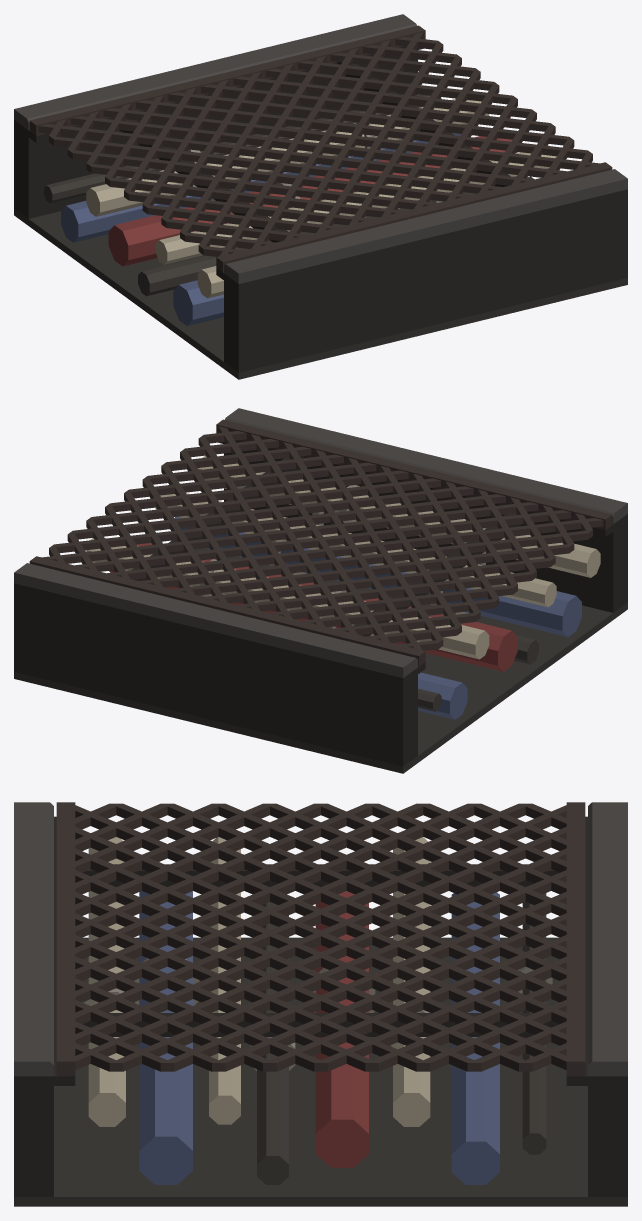
Rendered from FloorGrateOpenLR.fbx.
3 views of the same model, one above another, from view 1: azimuth 30°, elevation 25°; view 2: azimuth 150°, elevation 25°; view 3: azimuth 270°, elevation 25° (orthographic). The views are drawn at different scales.
Parts seen in each view (by area): view 1: FloorGrateOpenLR_Grate, FloorGrateOpenLR_Liner, FloorGrateOpenLR_Frame, FloorGrateOpenLR_PitFloor, FloorGrateOpenLR_PipeCream, FloorGrateOpenLR_PipeBlue, FloorGrateOpenLR_PipeDark, FloorGrateOpenLR_PipeRed; view 2: FloorGrateOpenLR_Grate, FloorGrateOpenLR_Liner, FloorGrateOpenLR_Frame, FloorGrateOpenLR_PitFloor, FloorGrateOpenLR_PipeCream, FloorGrateOpenLR_PipeBlue, FloorGrateOpenLR_PipeRed, FloorGrateOpenLR_PipeDark; view 3: FloorGrateOpenLR_Grate, FloorGrateOpenLR_PitFloor, FloorGrateOpenLR_Frame, FloorGrateOpenLR_Liner, FloorGrateOpenLR_PipeBlue, FloorGrateOpenLR_PipeCream, FloorGrateOpenLR_PipeDark, FloorGrateOpenLR_PipeRed, FloorGrateOpenLR_Fittings.
Part boxes in pixels (x1,y1,x2,y2): FloorGrateOpenLR_Grate: (29,25,612,272); FloorGrateOpenLR_Liner: (14,46,627,372); FloorGrateOpenLR_Frame: (14,14,627,283); FloorGrateOpenLR_PitFloor: (14,192,627,379); FloorGrateOpenLR_PipeCream: (86,99,556,298); FloorGrateOpenLR_PipeBlue: (61,133,460,325); FloorGrateOpenLR_PipeDark: (44,94,533,296); FloorGrateOpenLR_PipeRed: (108,136,517,266); FloorGrateOpenLR_Grate: (29,419,612,666); FloorGrateOpenLR_Liner: (14,440,627,766); FloorGrateOpenLR_Frame: (14,408,627,677); FloorGrateOpenLR_PitFloor: (14,548,627,773); FloorGrateOpenLR_PipeCream: (86,455,600,659); FloorGrateOpenLR_PipeBlue: (174,517,581,719); FloorGrateOpenLR_PipeRed: (109,543,517,671); FloorGrateOpenLR_PipeDark: (418,635,538,711); FloorGrateOpenLR_Grate: (56,802,585,1076); FloorGrateOpenLR_PitFloor: (14,937,627,1206); FloorGrateOpenLR_Frame: (14,802,627,1076); FloorGrateOpenLR_Liner: (14,816,627,1196); FloorGrateOpenLR_PipeBlue: (139,891,499,1184); FloorGrateOpenLR_PipeCream: (88,837,430,1126); FloorGrateOpenLR_PipeDark: (257,893,546,1184); FloorGrateOpenLR_PipeRed: (315,891,368,1167); FloorGrateOpenLR_Fittings: (82,958,552,1070).
Bounding box in the file's own units: 11.5 × 3 × 11.5.
